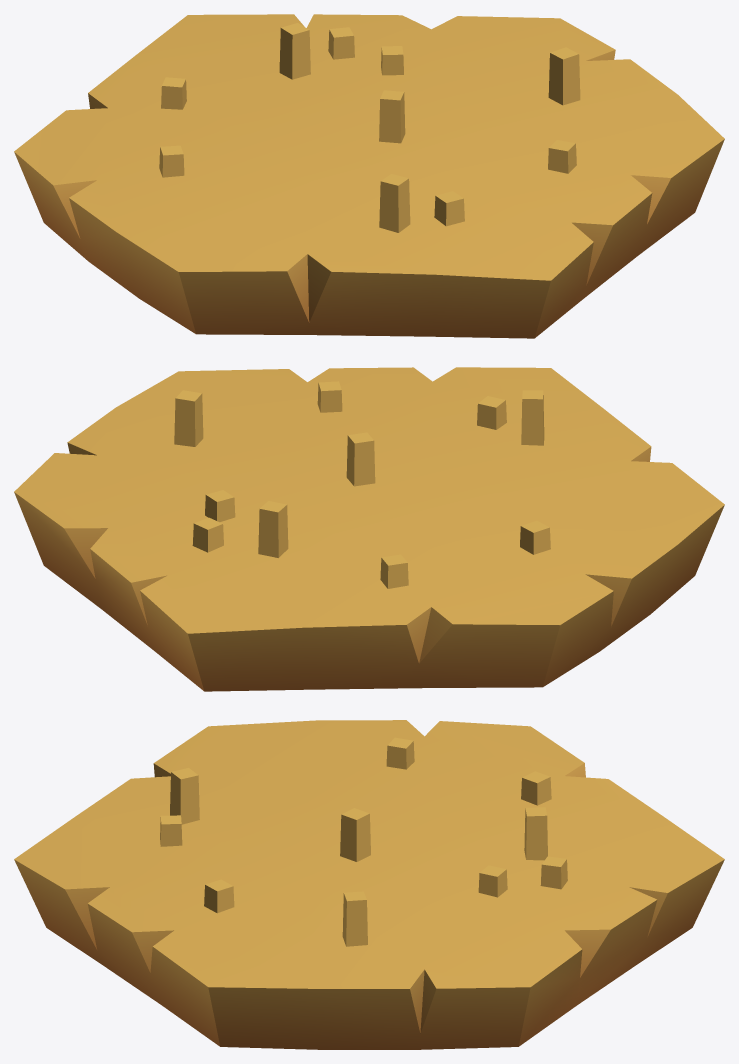
File: grain.glb
3 renders of one model, top to bottom at view 1: azimuth 30°, elevation 25°; view 2: azimuth 150°, elevation 25°; view 3: azimuth 270°, elevation 25°, orthographic. The views are drawn at different scales.
Parts seen in each view (by area): view 1: grain; view 2: grain; view 3: grain.
Part boxes in pixels (box(x1,y1,x2,y2)): grain: box(14, 14, 724, 338); grain: box(14, 367, 724, 691); grain: box(14, 720, 724, 1049).
Size of the model in its own units: 0.9368 by 0.1969 by 1.05.
1 material, 1 textured.
